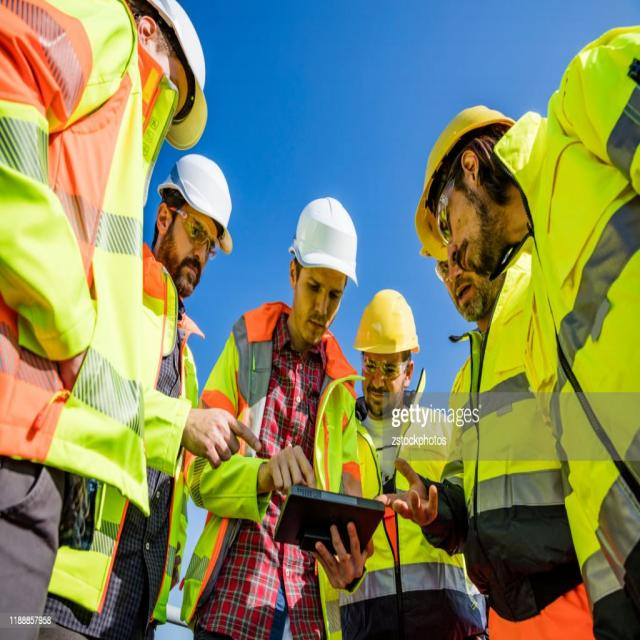Reflective-Jacket: (0, 3, 196, 629), (520, 15, 640, 640), (167, 303, 367, 627), (431, 250, 590, 636), (116, 247, 218, 636), (316, 386, 464, 628)
Safety-Helmet: (413, 99, 521, 242), (127, 1, 211, 142), (158, 149, 236, 244), (287, 189, 361, 287), (354, 284, 420, 360)
